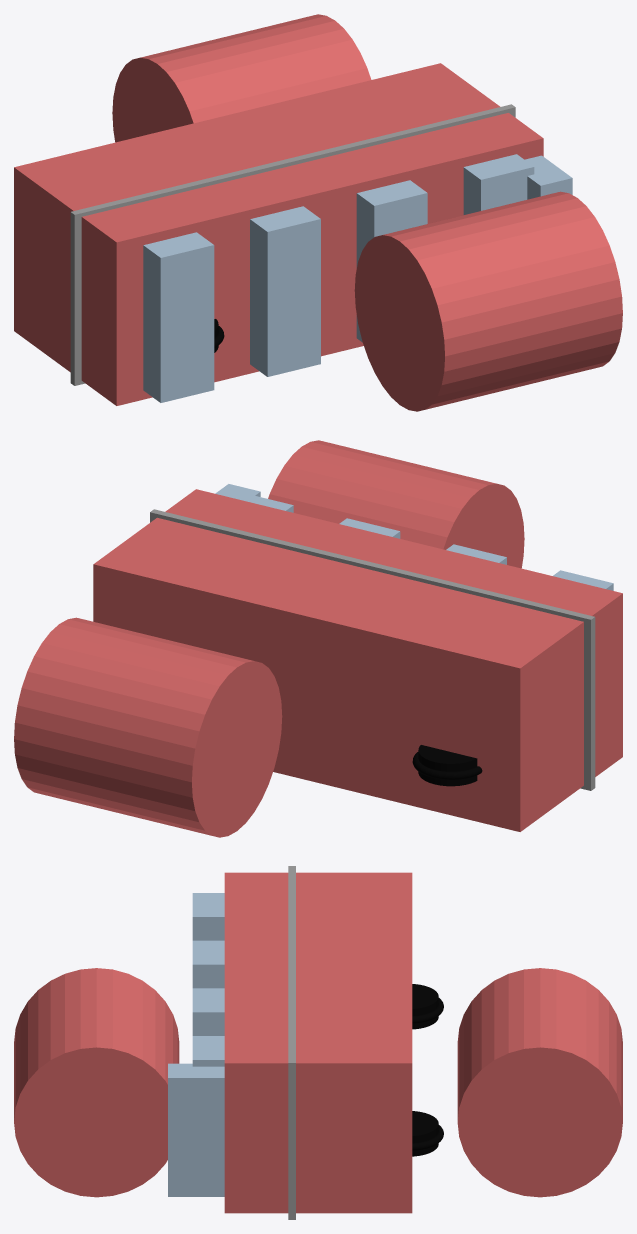
Rendered from city_bus.glb.
3 views of the same model, one above another, from view 1: azimuth 30°, elevation 25°; view 2: azimuth 150°, elevation 25°; view 3: azimuth 270°, elevation 25° (orthographic). The views are drawn at different scales.
Visible parts, largest first — view 1: geometry_0, geometry_1, geometry_3; view 2: geometry_0, geometry_3, geometry_1, geometry_2; view 3: geometry_0, geometry_1, geometry_3, geometry_2.
Part boxes in pixels (x1=…): geometry_0: x1=14, y1=14, x2=622, y2=411; geometry_1: x1=143, y1=154, x2=572, y2=402; geometry_3: x1=70, y1=104, x2=515, y2=385; geometry_0: x1=14, y1=440, x2=622, y2=837; geometry_3: x1=150, y1=509, x2=595, y2=790; geometry_1: x1=215, y1=484, x2=613, y2=590; geometry_2: x1=412, y1=745, x2=482, y2=786; geometry_0: x1=14, y1=872, x2=622, y2=1213; geometry_1: x1=168, y1=893, x2=224, y2=1196; geometry_3: x1=288, y1=866, x2=295, y2=1219; geometry_2: x1=412, y1=984, x2=443, y2=1156.
Bounding box in the file's own units: 6.2 × 2.3 × 8.1.
